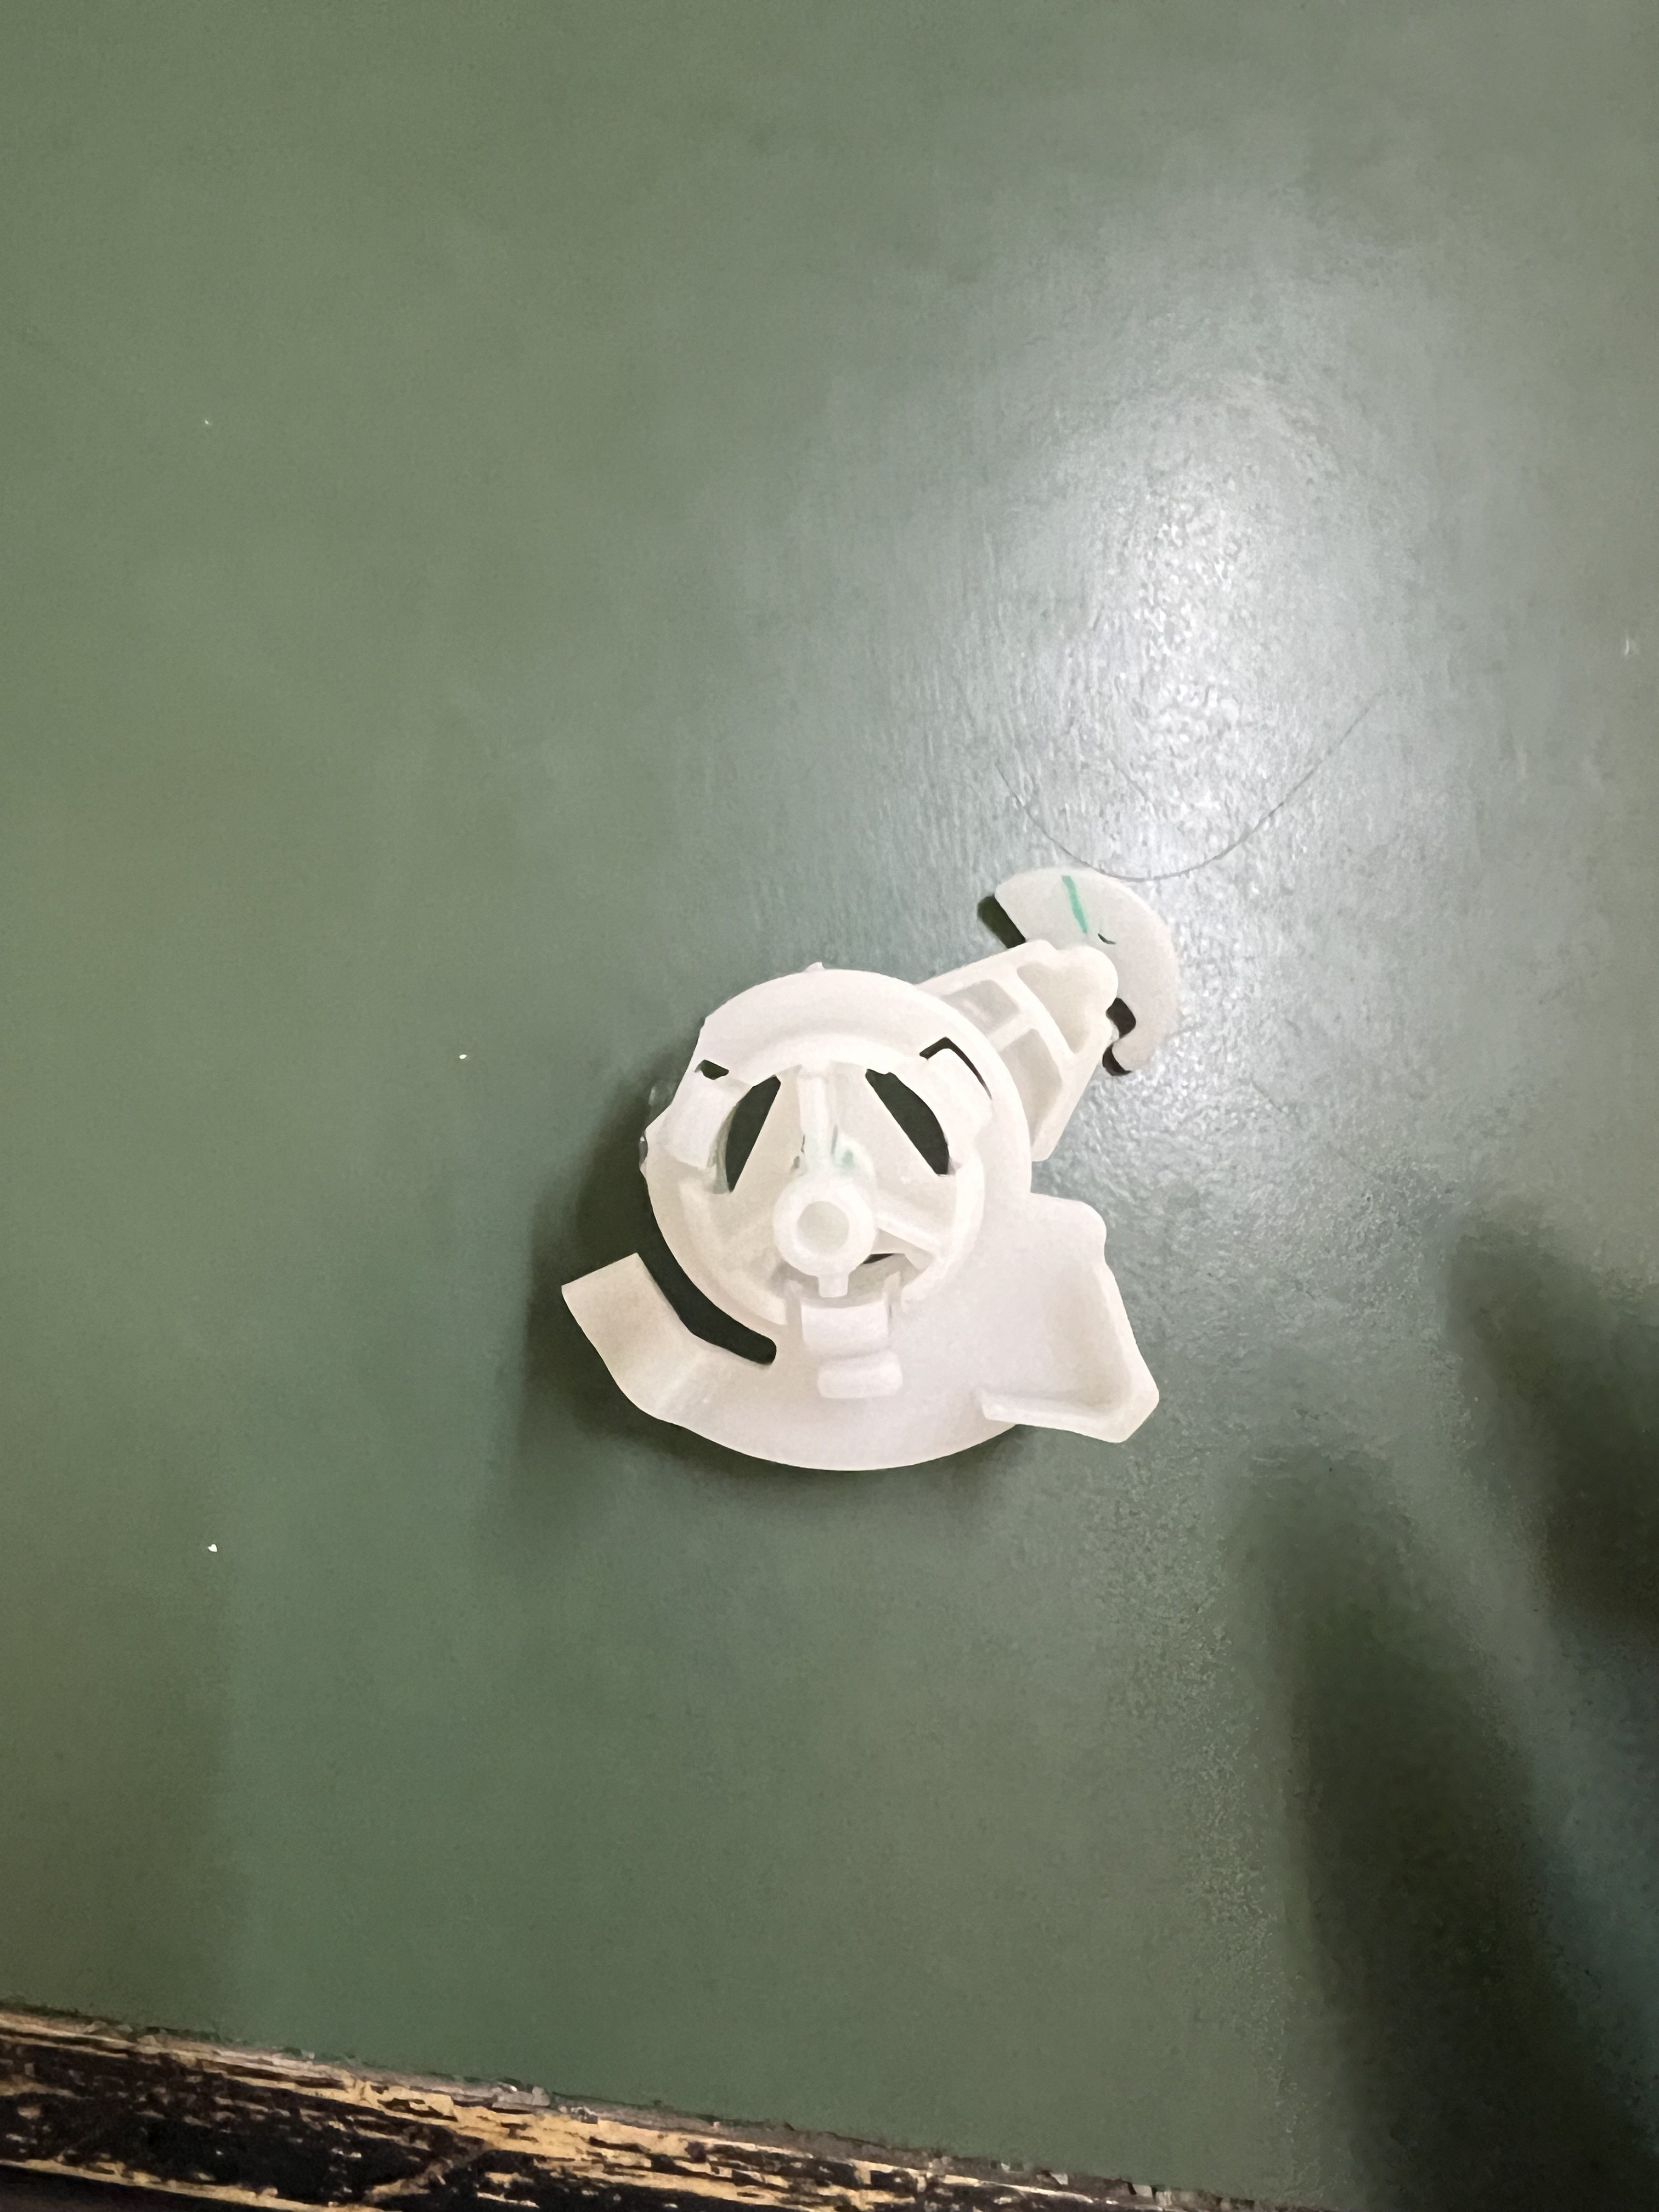drain_lever: (552, 860, 1204, 1508)
